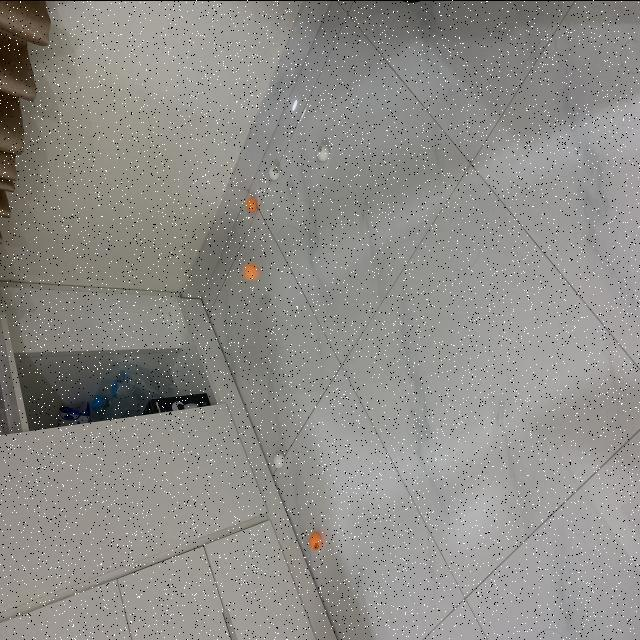ping-pong-ball: (243, 260, 261, 282), (266, 160, 282, 181), (308, 531, 324, 550), (316, 143, 330, 161), (272, 452, 286, 468), (245, 196, 258, 212)
